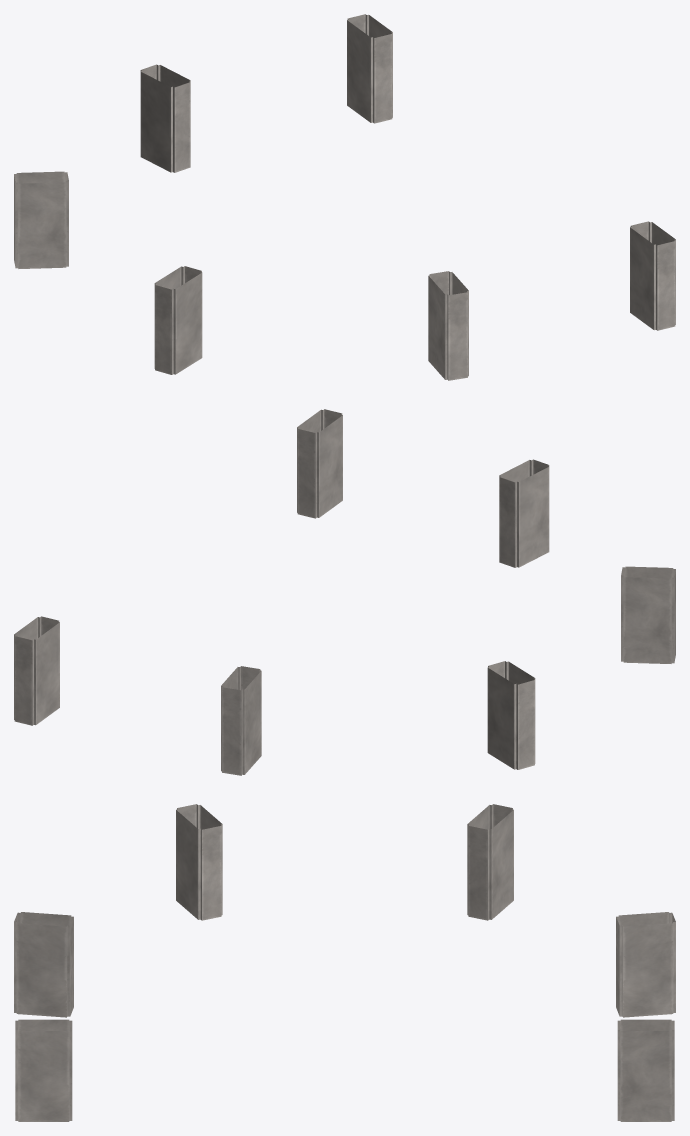
File: Ambulatory_Inner_Post_2m.fbx
The picture shows the model from 3 angles, top to bottom: view 1: azimuth 30°, elevation 25°; view 2: azimuth 150°, elevation 25°; view 3: azimuth 270°, elevation 25°; orthographic projection. The views are drawn at different scales.
Parts seen in each view (by area): view 1: Ambulatory_Inner_Post_2m; view 2: Ambulatory_Inner_Post_2m; view 3: Ambulatory_Inner_Post_2m.
Part boxes in pixels (x1=…): Ambulatory_Inner_Post_2m: x1=14, y1=14, x2=675, y2=380; Ambulatory_Inner_Post_2m: x1=14, y1=409, x2=675, y2=775; Ambulatory_Inner_Post_2m: x1=14, y1=804, x2=675, y2=1121.
Size of the model in its own units: 10.7 by 13.19 by 2.
